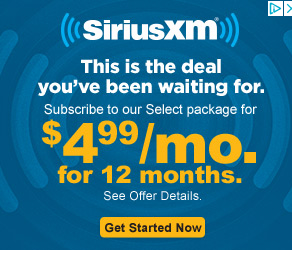fake_button: (93, 205, 215, 245)
